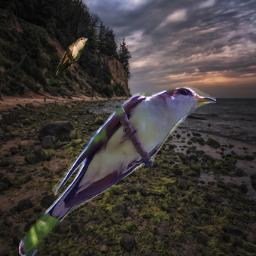Cuckoo: (19, 86, 216, 256), (54, 37, 88, 77)
